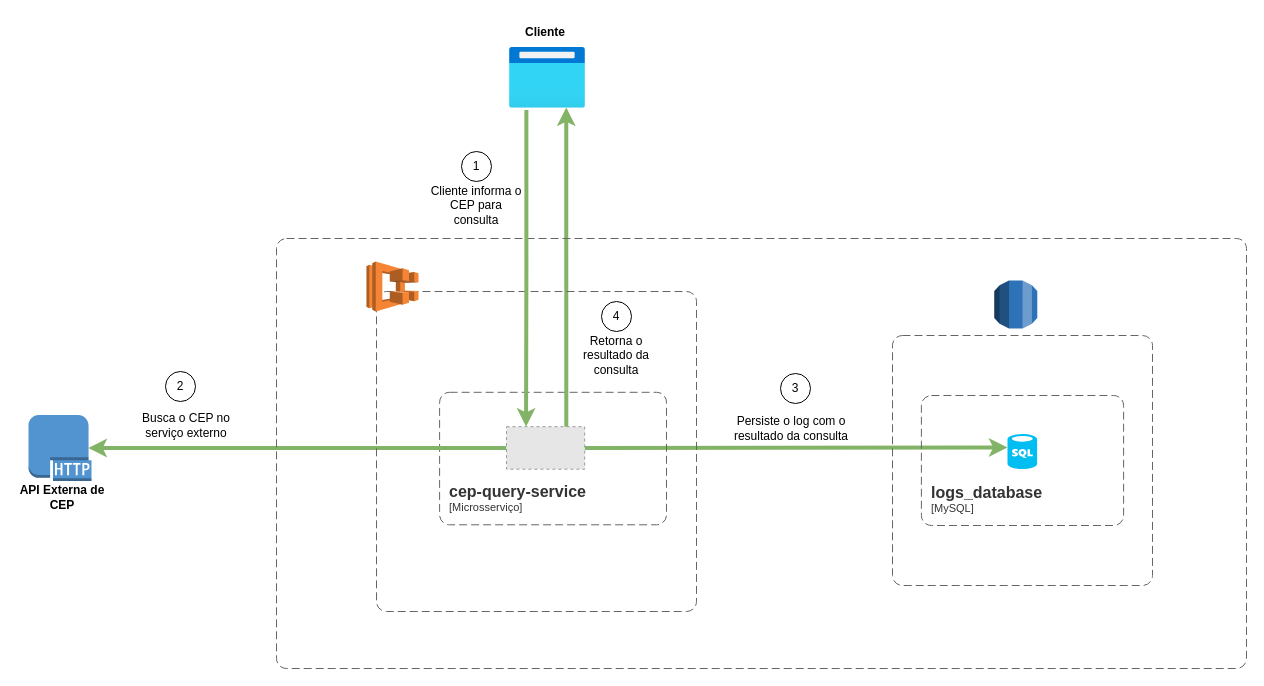
Some shapes in this 1264 by 686 pixel diagram are drawn without their labels. Grey dashed boxes stand in for pictures. Each missing label, with the box of its shape:
Aplicação [ECS]: (376, 290, 696, 612)
Banco de Dados [AWS RDS]: (892, 334, 1152, 586)
Infra F1rst [AWS]: (276, 238, 1246, 668)
